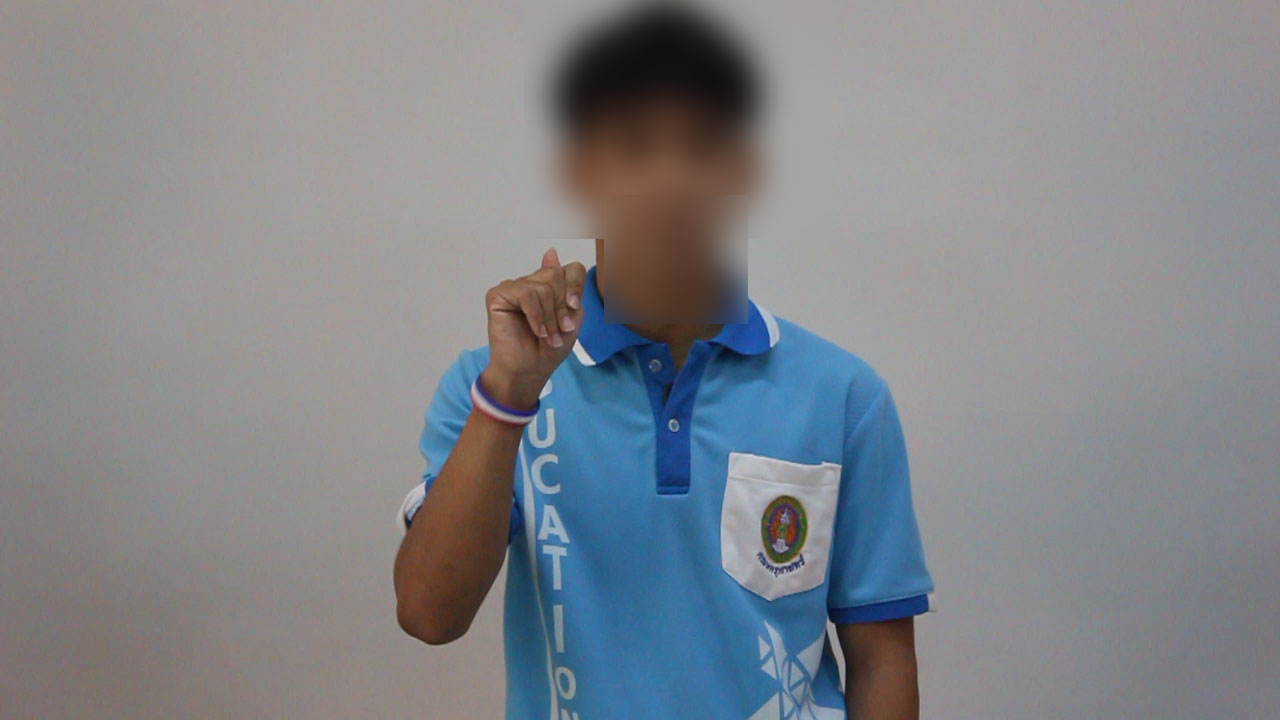tor: (465, 230, 606, 431)
